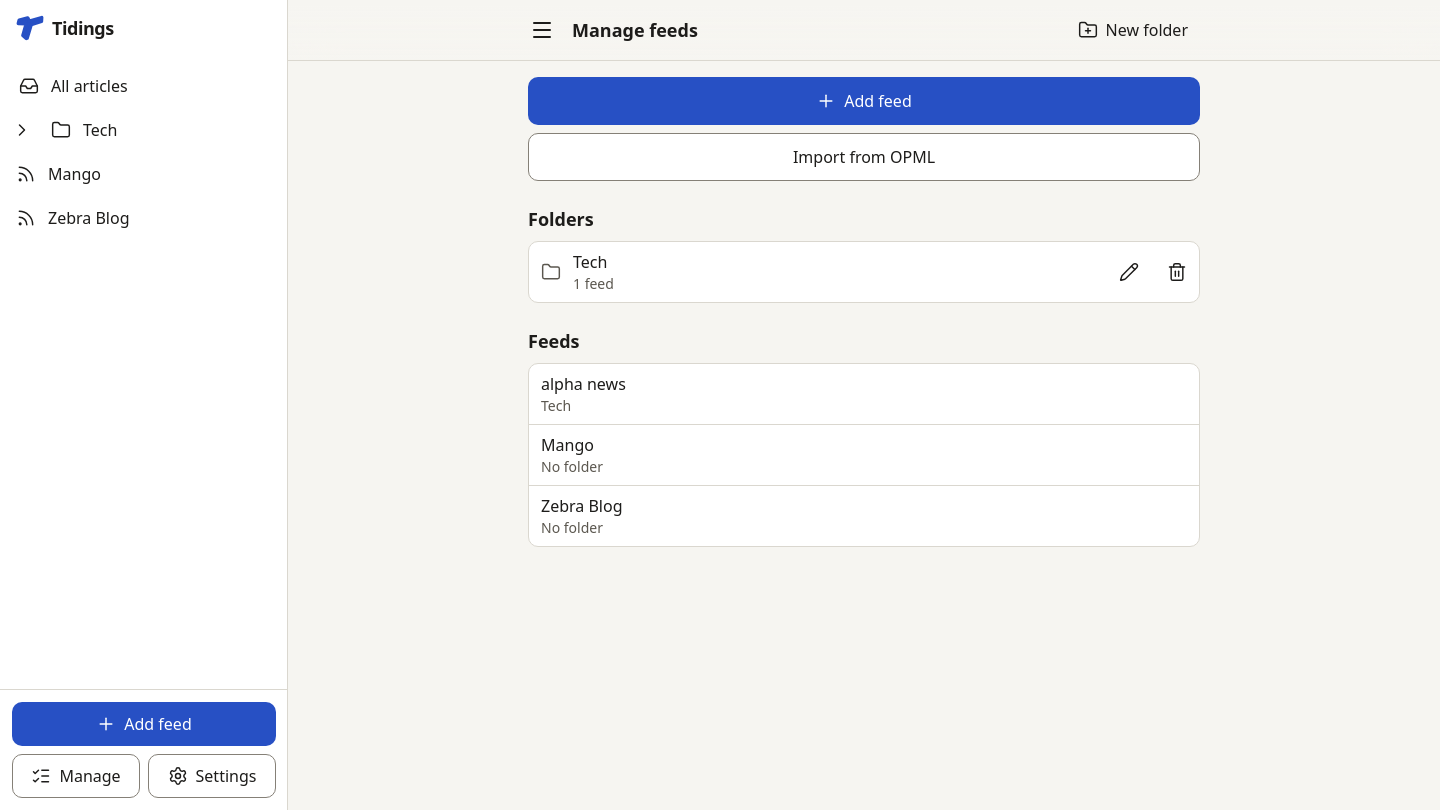
Test: AC2 and AC3: names › renaming a folder updates the list and the drawer
This screenshot has width=1440, height=810.
Expected: the heading "Folders" is shown, [528,207,594,231]
Click the button named "Rename Tech" at (1129, 272), box [1107,250,1151,294]
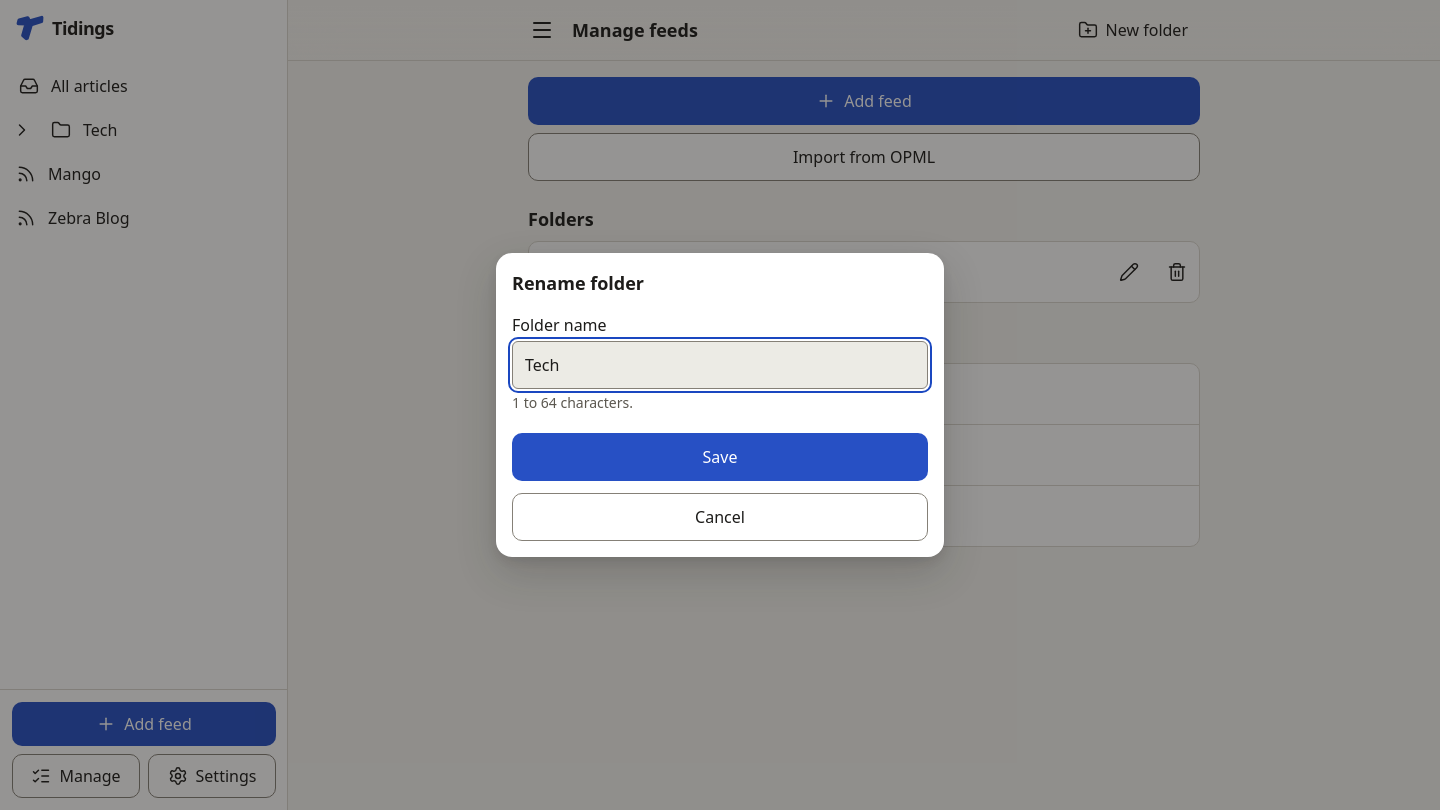
Replace the text in the field labelled "Folder name" with "Technology" at (720, 365), box [512,341,928,389]
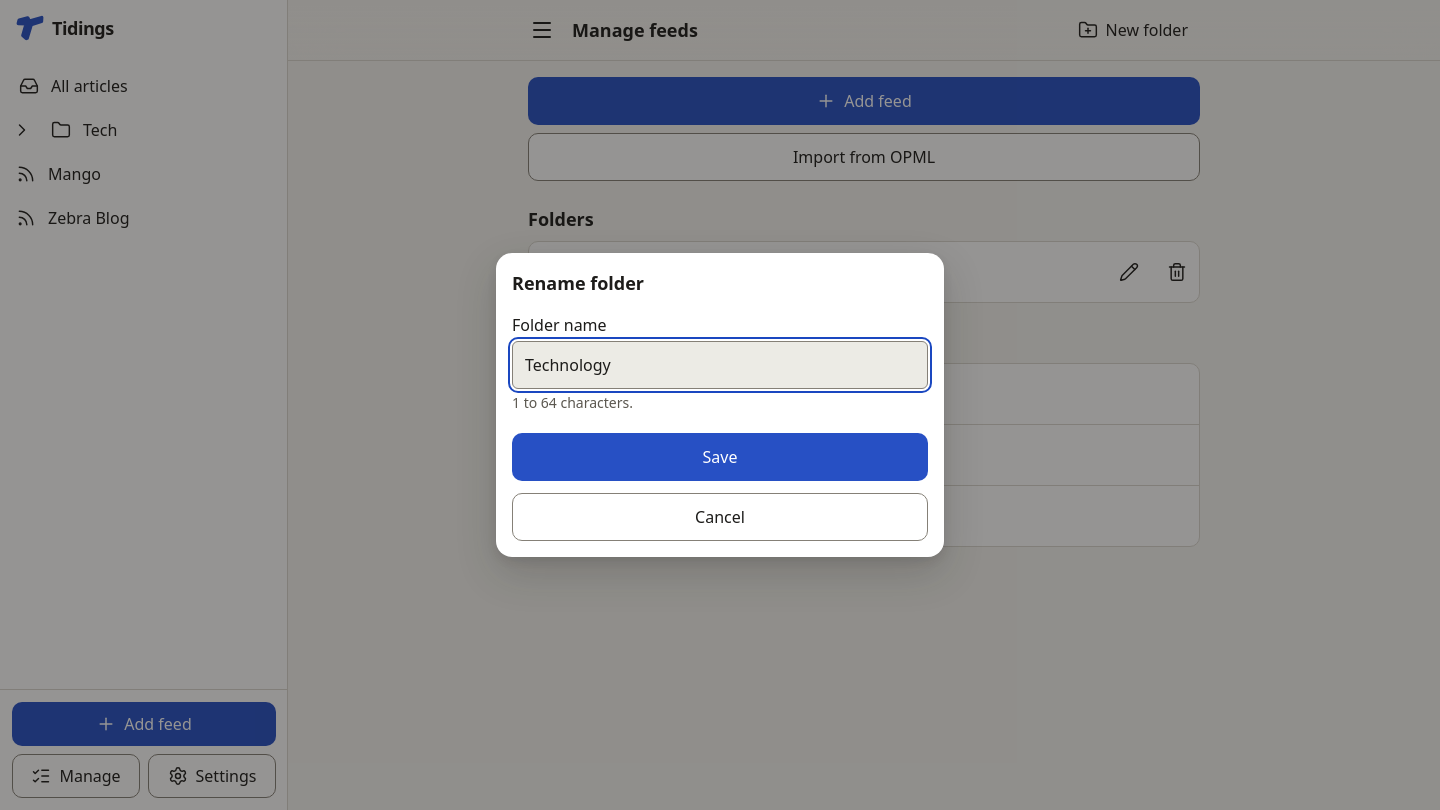
Click the button "Save" at (720, 457), box [512,433,928,481]
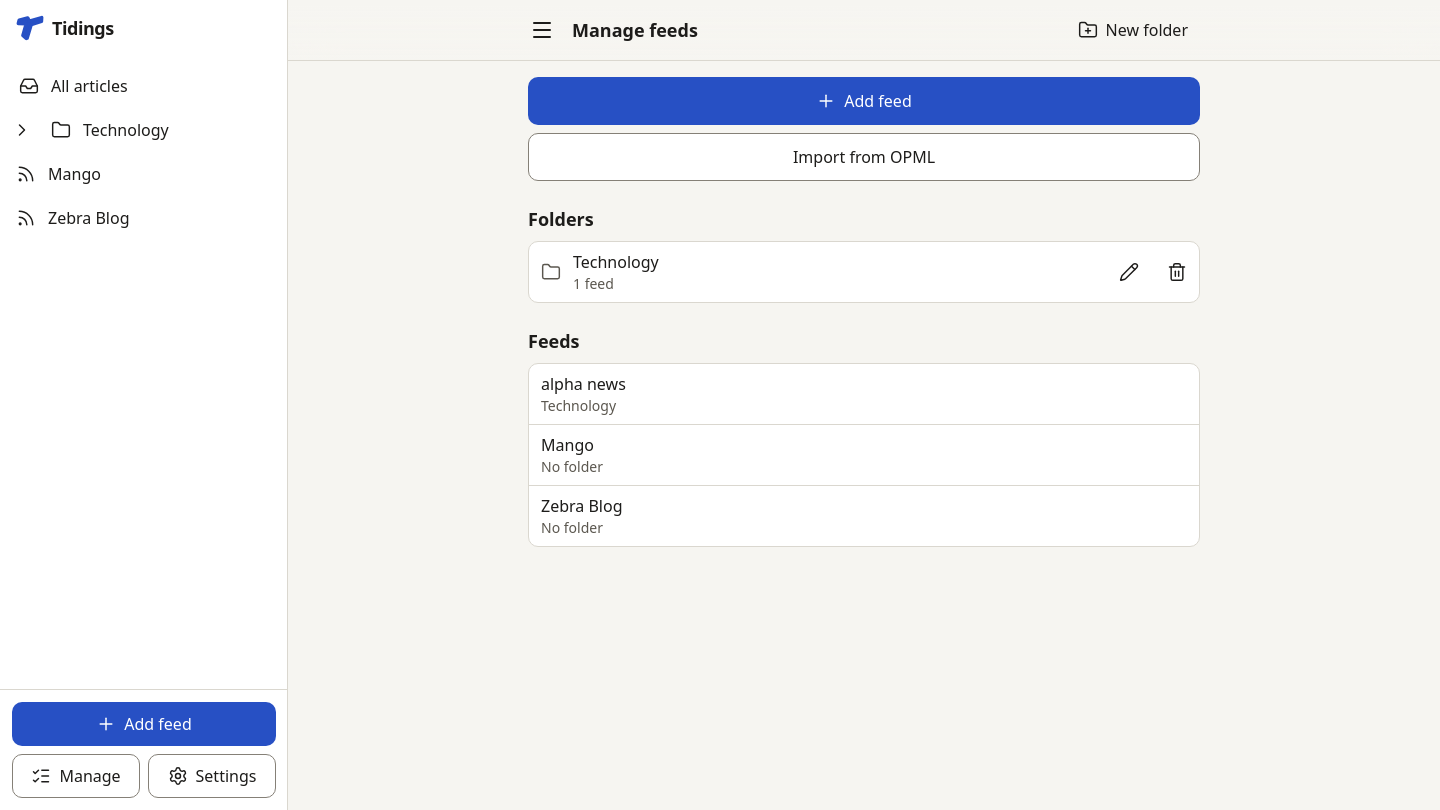
Result: the link "Technology" is shown at [51,119,169,141]
Result: the text "Technology" below "Folders" is shown at [573,251,659,273]
